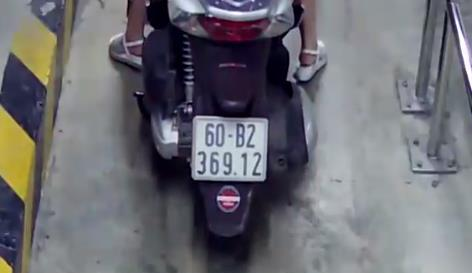lisence: (192, 115, 268, 182)
